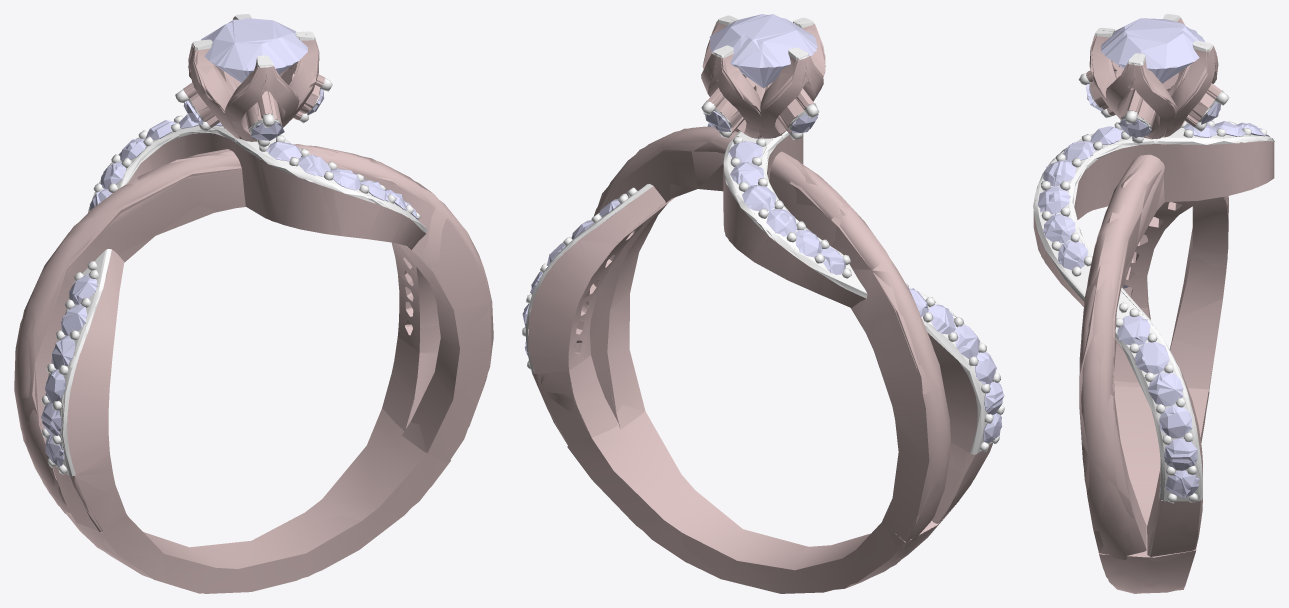
Rendered from DLR-D000684440.glb.
3 views of the same model, side by side, from view 1: azimuth 30°, elevation 25°; view 2: azimuth 150°, elevation 25°; view 3: azimuth 270°, elevation 25° (orthographic). The views are drawn at different scales.
Parts seen in each view (by area): view 1: highPolyMesh, lowPolyMesh; view 2: highPolyMesh, lowPolyMesh; view 3: highPolyMesh, lowPolyMesh.
Boxes of the visible parts, box(x1,y1,x2,y2) form: highPolyMesh: box(14, 14, 493, 593); lowPolyMesh: box(14, 14, 493, 593); highPolyMesh: box(522, 14, 1004, 593); lowPolyMesh: box(522, 14, 1004, 593); highPolyMesh: box(1034, 14, 1274, 593); lowPolyMesh: box(1033, 14, 1274, 593).
Bounding box in the file's own units: 0.0216 × 0.0257 × 0.0104.
